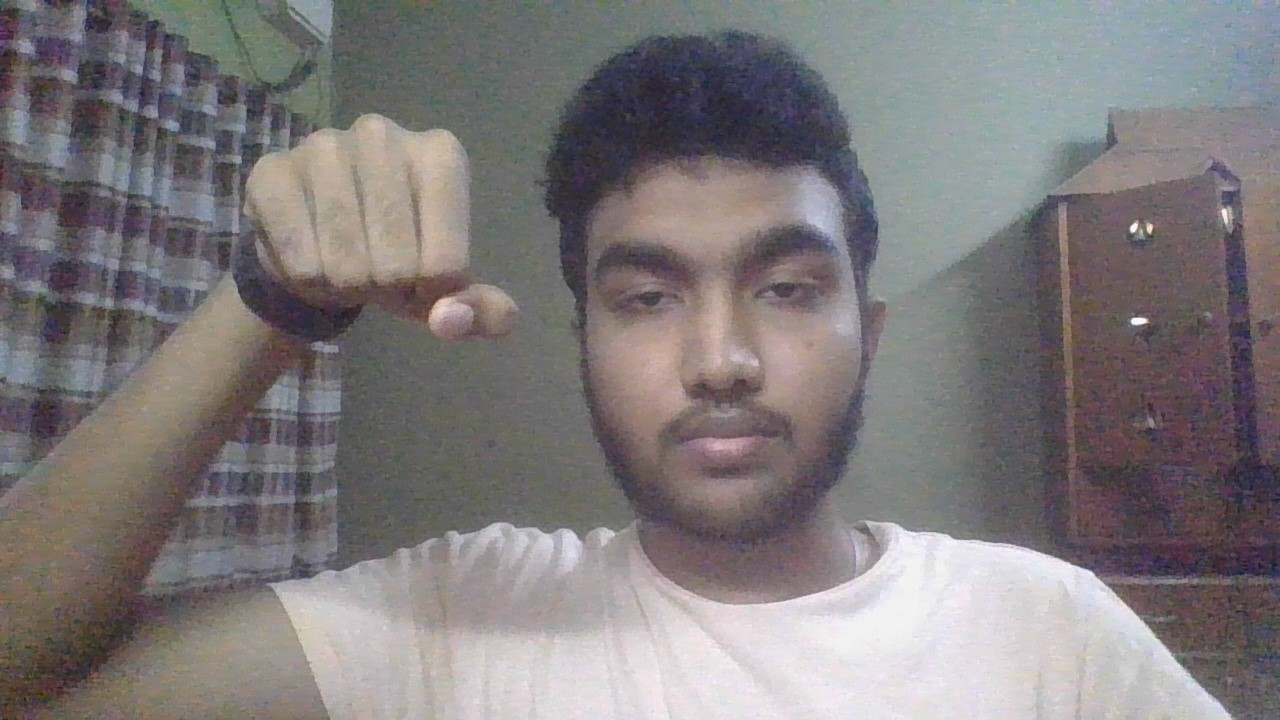Yes: (210, 104, 533, 358)
